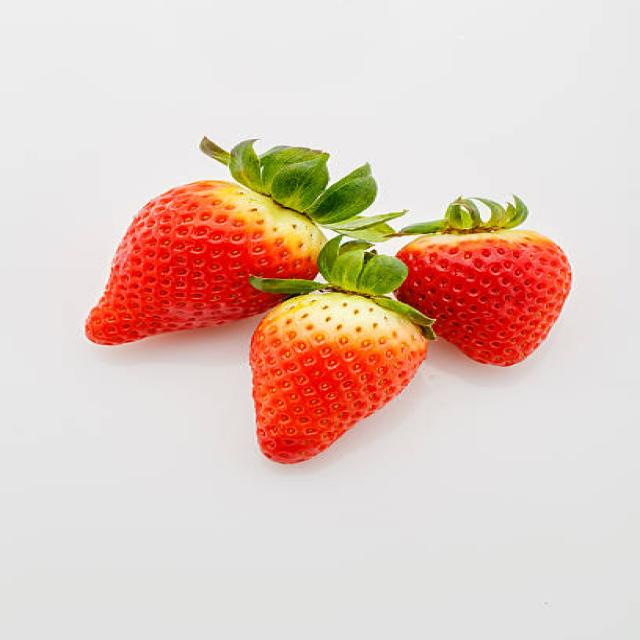Healthy Fruit: (84, 179, 327, 343), (251, 294, 430, 466), (396, 224, 571, 368)
